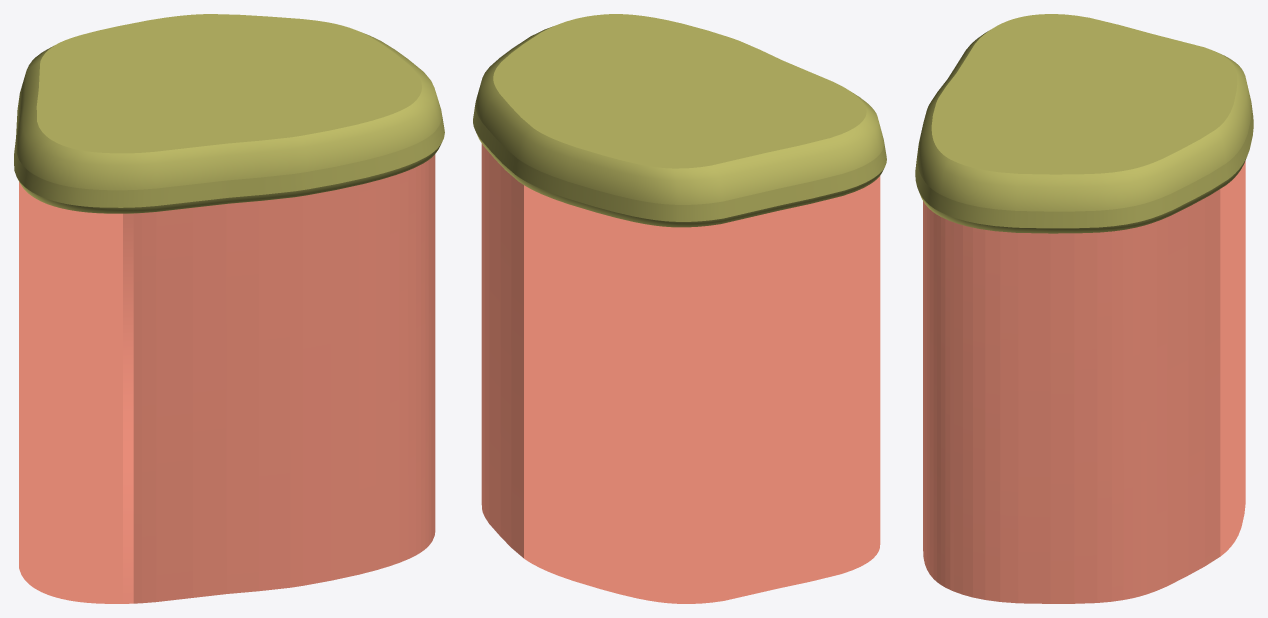
The model's file is tutorial_island.fbx.
The picture shows the model from 3 angles, left to right: view 1: azimuth 30°, elevation 25°; view 2: azimuth 150°, elevation 25°; view 3: azimuth 270°, elevation 25°; orthographic projection. The views are drawn at different scales.
Visible parts, largest first — view 1: Extrude_3, Extrude; view 2: Extrude_3, Extrude; view 3: Extrude_3, Extrude.
Part boxes in pixels (x1,y1,x2,y2): Extrude_3: [19, 154, 435, 603]; Extrude: [14, 14, 444, 213]; Extrude_3: [481, 143, 880, 603]; Extrude: [473, 14, 886, 227]; Extrude_3: [923, 161, 1245, 603]; Extrude: [915, 14, 1253, 233].
Bounding box in the file's own units: 11311 × 12469 × 9033.
